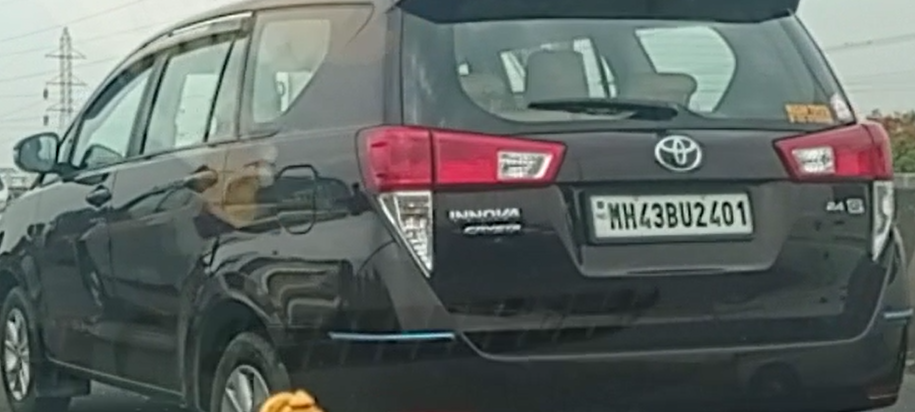MH43BU2401: (585, 191, 756, 239)
